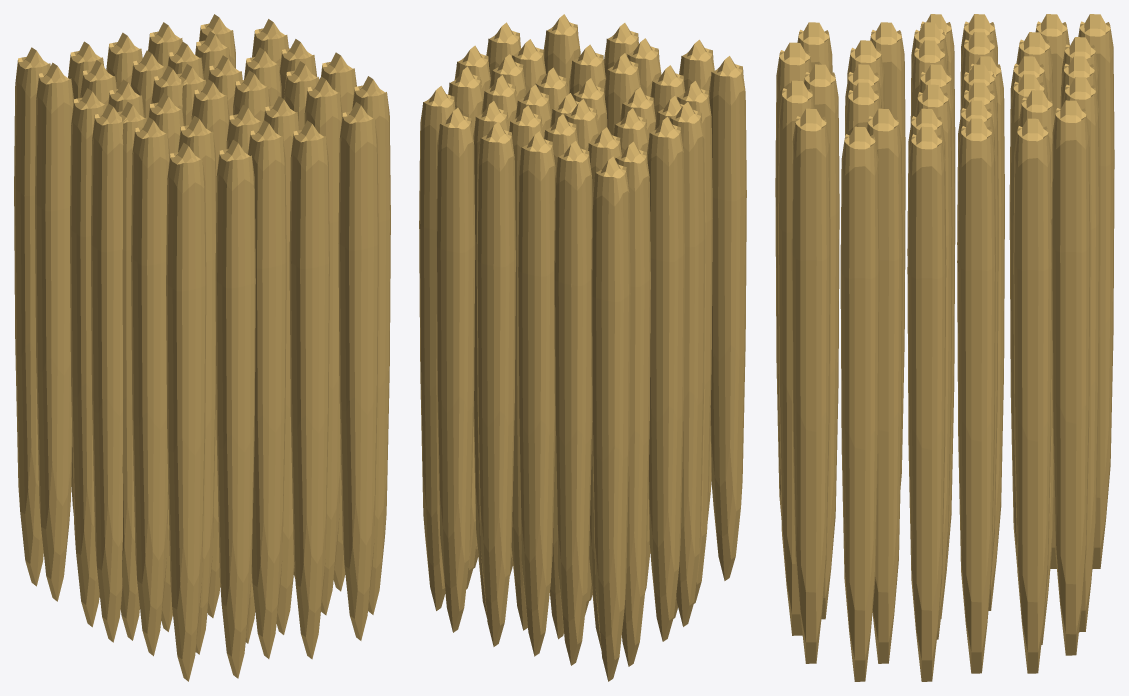
The model's file is wheatSeed.fbx.
The picture shows the model from 3 angles, left to right: view 1: azimuth 30°, elevation 25°; view 2: azimuth 150°, elevation 25°; view 3: azimuth 270°, elevation 25°; orthographic projection. The views are drawn at different scales.
Parts seen in each view (by area): view 1: Seed; view 2: Seed; view 3: Seed.
Boxes of the visible parts, bbox=[...] form: Seed: bbox=[14, 14, 390, 681]; Seed: bbox=[419, 14, 746, 681]; Seed: bbox=[775, 14, 1114, 681].
Bounding box in the file's own units: 0.00323 × 0.00648 × 0.00359.
